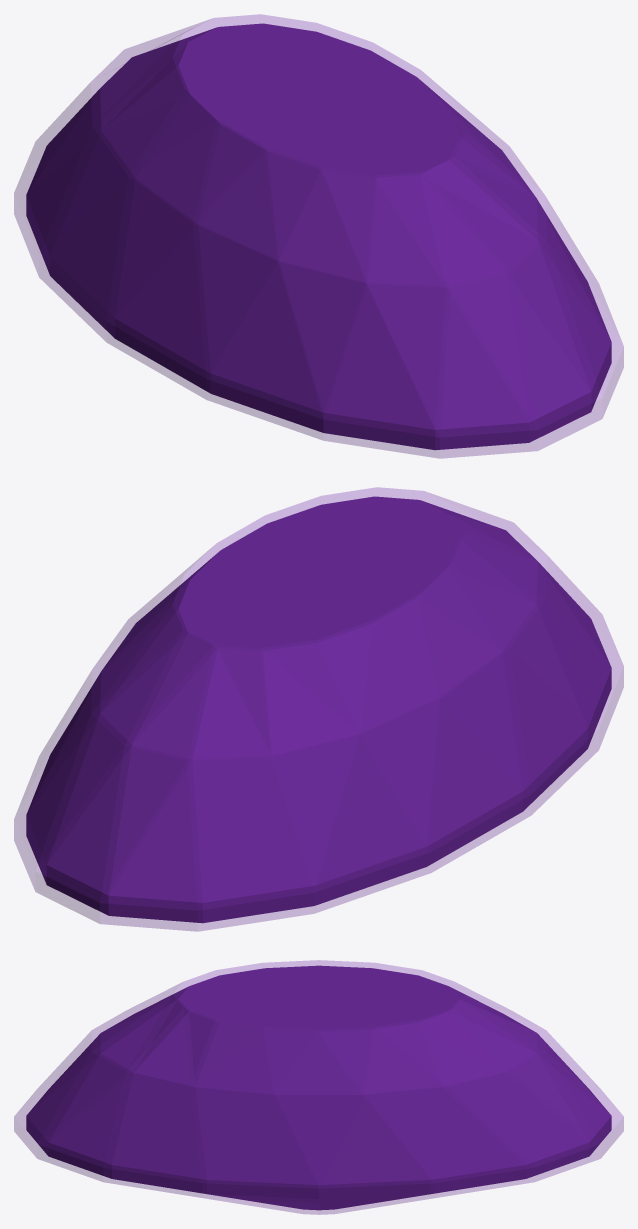
The model's file is item_item218.glb.
3 renders of one model, top to bottom at view 1: azimuth 30°, elevation 25°; view 2: azimuth 150°, elevation 25°; view 3: azimuth 270°, elevation 25°, orthographic. The views are drawn at different scales.
Parts seen in each view (by area): view 1: jewellery_item218_glass, jewellery_item218; view 2: jewellery_item218_glass, jewellery_item218; view 3: jewellery_item218_glass, jewellery_item218.
Part boxes in pixels (x1,y1,x2,y2): jewellery_item218_glass: (14, 14, 623, 458); jewellery_item218: (26, 23, 611, 450); jewellery_item218_glass: (14, 487, 623, 931); jewellery_item218: (26, 496, 611, 923); jewellery_item218_glass: (14, 960, 623, 1214); jewellery_item218: (26, 965, 611, 1210).
Bounding box in the file's own units: 0.56 × 0.38 × 1.
